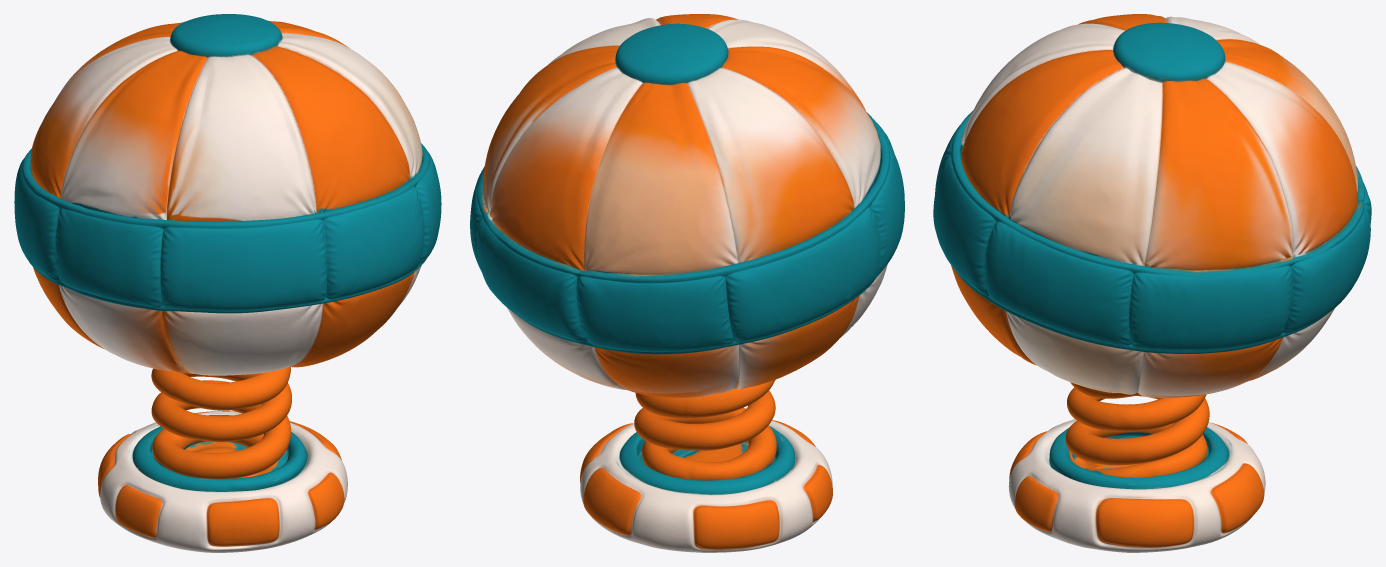
Rendered from Meshy_AI_roofline_bumper_bag_3_1024085446_image-to-3d-texture.glb.
3 views of the same model, side by side, from view 1: azimuth 30°, elevation 25°; view 2: azimuth 150°, elevation 25°; view 3: azimuth 270°, elevation 25° (orthographic). The views are drawn at different scales.
Size of the model in its own units: 1.59 by 1.9 by 1.59.
1 material, 1 textured.
